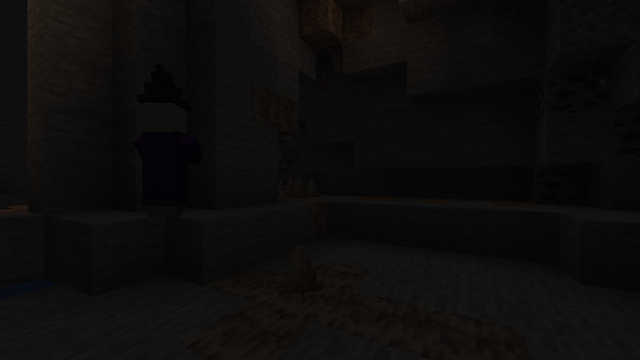sorcieres: (137, 94, 192, 219)
